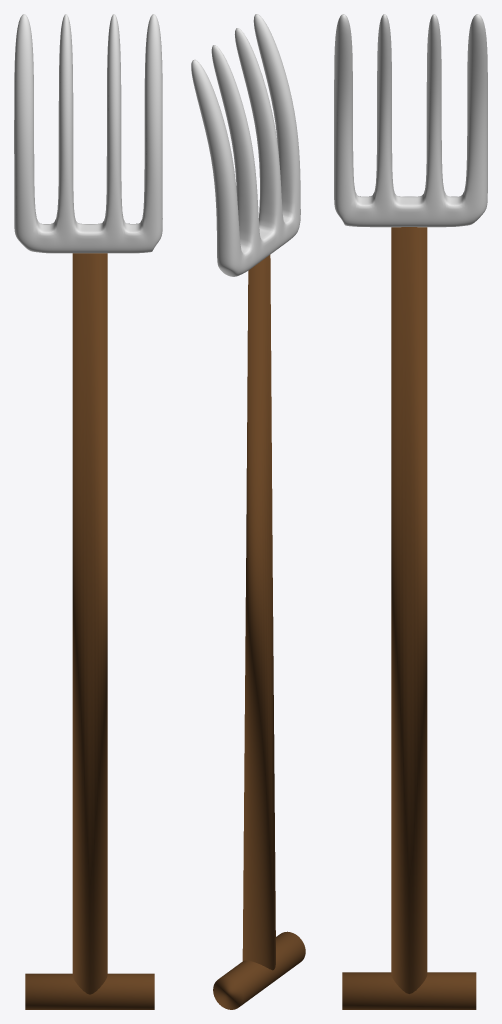
Rendered from Gardenfork.fbx.
3 renders of one model, left to right at view 1: azimuth 90°, elevation 25°; view 2: azimuth 150°, elevation 25°; view 3: azimuth 270°, elevation 25°, orthographic. The views are drawn at different scales.
Visible parts, largest first — view 1: Top, Spike; view 2: Top, Spike; view 3: Top, Spike.
Boxes of the visible parts, box(x1,y1,x2,y2) form: Top: box(25, 253, 154, 1009); Spike: box(14, 14, 162, 253); Top: box(213, 255, 305, 1009); Spike: box(191, 14, 300, 276); Top: box(342, 227, 476, 1009); Spike: box(334, 14, 487, 227).
Size of the model in its own units: 211 by 3730 by 514.
